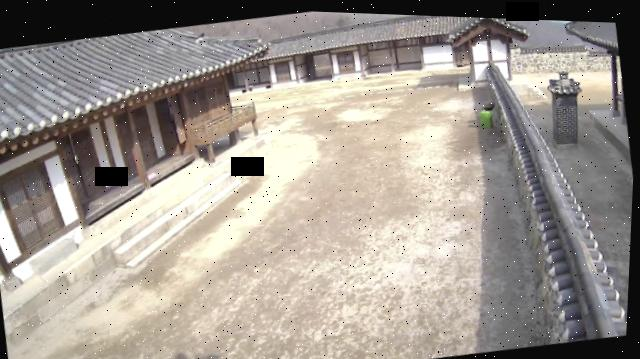bag: (478, 105, 497, 127)
